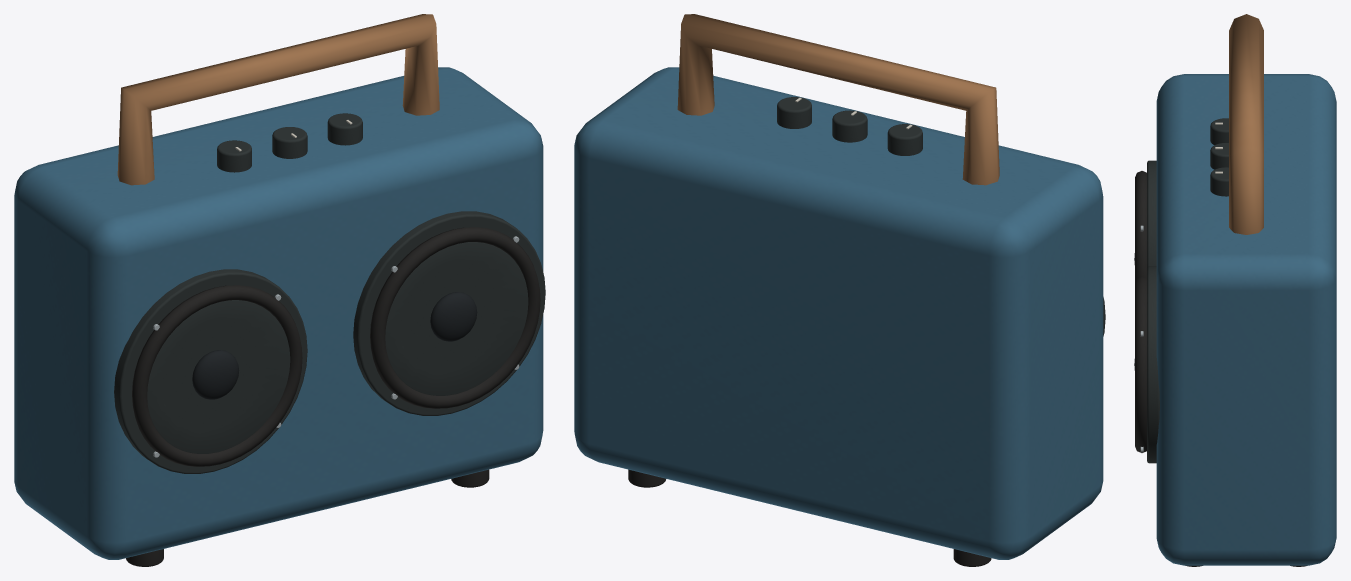
Rendered from portable-handle-speaker.glb.
3 views of the same model, side by side, from view 1: azimuth 30°, elevation 25°; view 2: azimuth 150°, elevation 25°; view 3: azimuth 270°, elevation 25° (orthographic). The views are drawn at different scales.
Parts seen in each view (by area): view 1: Portable speaker case, Raised carry handle, Speaker dark mounting rebate, Speaker dark mounting rebate.001, Speaker dished cone, Speaker dished cone.001, Speaker flexible surround.001, Speaker flexible surround, Speaker central dome, Speaker central dome.001, Top rotary control.002, Top rotary control.001 (+1 smaller); view 2: Portable speaker case, Raised carry handle, Top rotary control.001, Top rotary control, Top rotary control.002; view 3: Portable speaker case, Raised carry handle, Speaker dark mounting rebate.001, Speaker flexible surround.001, Speaker flexible surround, Speaker dark mounting rebate, Top rotary control.002, Top rotary control, Top rotary control.001.
Part boxes in pixels (x1,y1,x2,y2): Portable speaker case: (14,67,543,559); Raised carry handle: (117,14,439,185); Speaker dark mounting rebate: (114,269,307,473); Speaker dark mounting rebate.001: (353,211,545,415); Speaker dished cone: (147,300,290,453); Speaker dished cone.001: (385,242,528,395); Speaker flexible surround.001: (370,227,540,408); Speaker flexible surround: (132,285,302,466); Speaker central dome: (192,350,239,399); Speaker central dome.001: (430,292,477,341); Top rotary control.002: (327,113,362,145); Top rotary control.001: (272,127,307,158); Portable speaker case: (574,67,1103,559); Raised carry handle: (677,14,999,185); Top rotary control.001: (832,110,867,142); Top rotary control: (887,124,922,155); Top rotary control.002: (777,97,811,128); Portable speaker case: (1156,74,1336,565); Raised carry handle: (1229,14,1263,234); Speaker dark mounting rebate.001: (1147,266,1159,463); Speaker flexible surround.001: (1135,276,1146,452); Speaker flexible surround: (1135,171,1146,282); Speaker dark mounting rebate: (1147,160,1156,267); Top rotary control.002: (1210,167,1228,196); Top rotary control: (1210,118,1228,144); Top rotary control.001: (1210,142,1228,169).
Size of the model in its own units: 0.327 by 0.3085 by 0.1393.
Materials: 7 (7 with a texture image).
